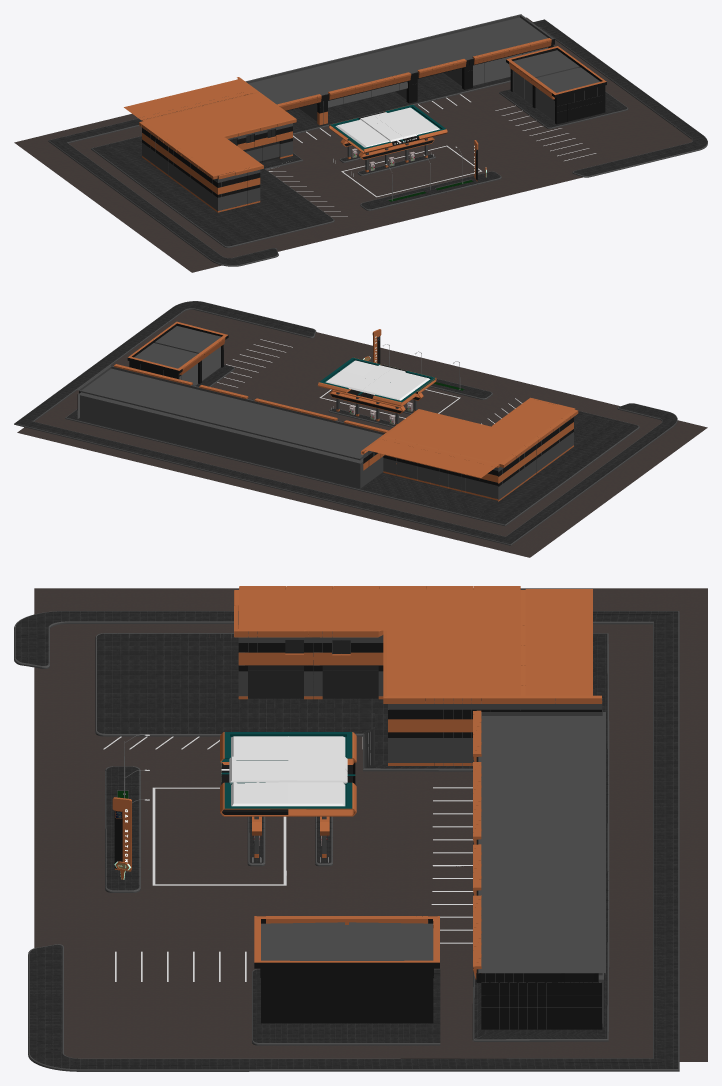
Rendered from gas-station.glb.
3 renders of one model, top to bottom at view 1: azimuth 30°, elevation 25°; view 2: azimuth 150°, elevation 25°; view 3: azimuth 270°, elevation 25°, orthographic. The views are drawn at different scales.
Parts seen in each view (by area): view 1: Plane.001, Cube.002, Plane.008, Plane.337, Cube.003, Plane.006, Plane.005, Plane.335; view 2: Cube.002, Plane.001, Plane.008, Plane.337, Plane.335, Cube.003, Plane.005, Plane.006; view 3: Plane.001, Cube.002, Plane.008, Plane.337, Plane.006, Plane.005, Plane.336.
Boxes of the visible parts, x1,y1,x2,y2 form: Plane.001: (14,17,692,272); Cube.002: (124,14,606,212); Plane.008: (48,19,707,266); Plane.337: (329,104,447,153); Cube.003: (328,47,554,121); Plane.006: (360,171,501,210); Plane.005: (339,138,435,175); Plane.335: (340,137,434,159); Cube.002: (77,321,578,501); Plane.001: (17,309,707,557); Plane.008: (14,301,677,545); Plane.337: (318,357,436,406); Plane.335: (329,390,423,413); Cube.003: (179,346,220,385); Plane.005: (328,392,416,427); Plane.006: (429,378,492,399); Plane.001: (34,588,707,1061); Cube.002: (234,586,605,1029); Plane.008: (14,611,679,1071); Plane.337: (220,732,356,816); Plane.006: (105,766,140,892); Plane.005: (247,816,332,866); Plane.336: (112,797,131,871).
Size of the model in its own units: 103 by 7.33 by 62.39.
Materials: 37 (3 with a texture image).
